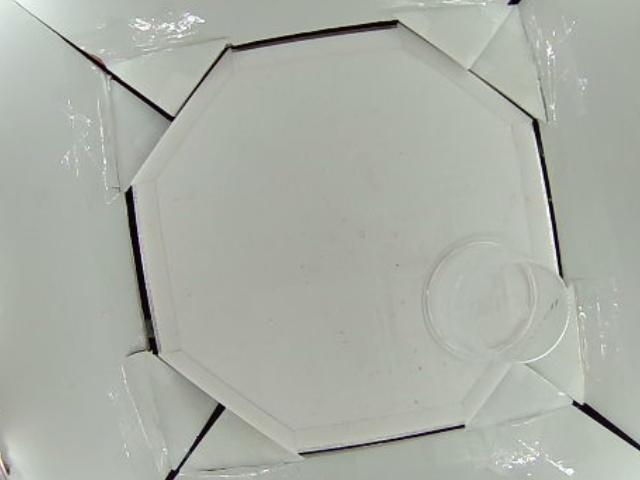Cup: (423, 235, 573, 368)
